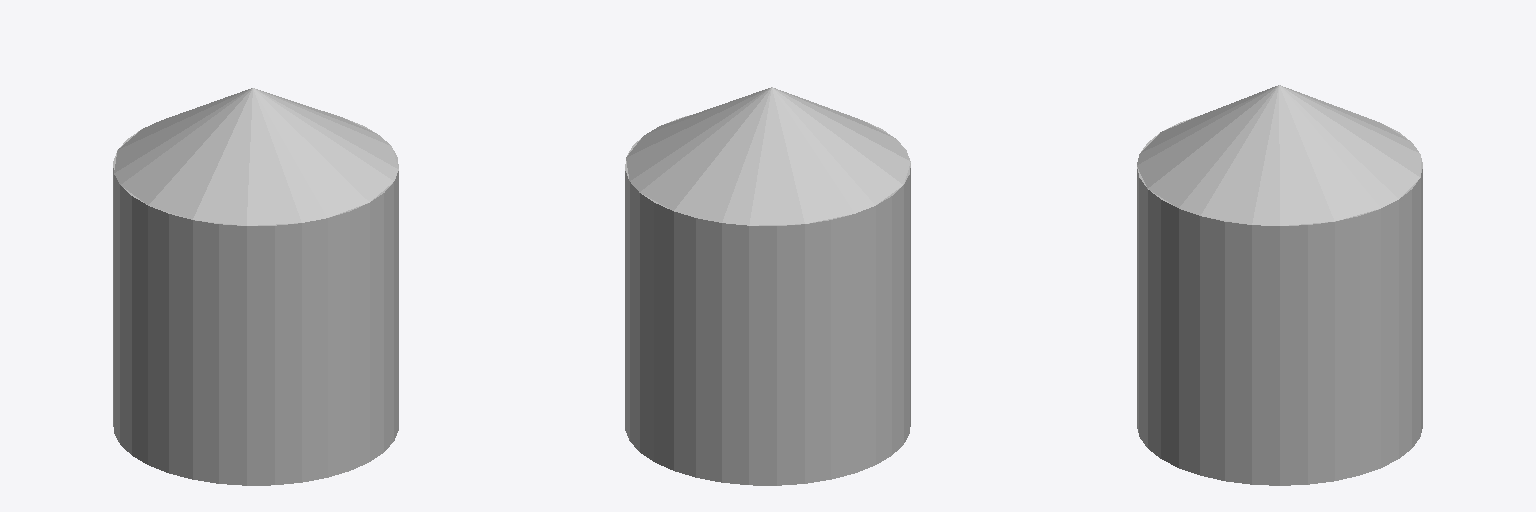
The model's file is can.obj.
3 renders of one model, left to right at view 1: azimuth 30°, elevation 25°; view 2: azimuth 150°, elevation 25°; view 3: azimuth 270°, elevation 25°, orthographic.
Parts seen in each view (by area): view 1: Cylinder; view 2: Cylinder; view 3: Cylinder.
Boxes of the visible parts, x1,y1,x2,y2 form: Cylinder: [113, 88, 398, 485]; Cylinder: [625, 87, 910, 485]; Cylinder: [1137, 85, 1422, 485].
Bounding box in the file's own units: 2 × 2.61 × 2.